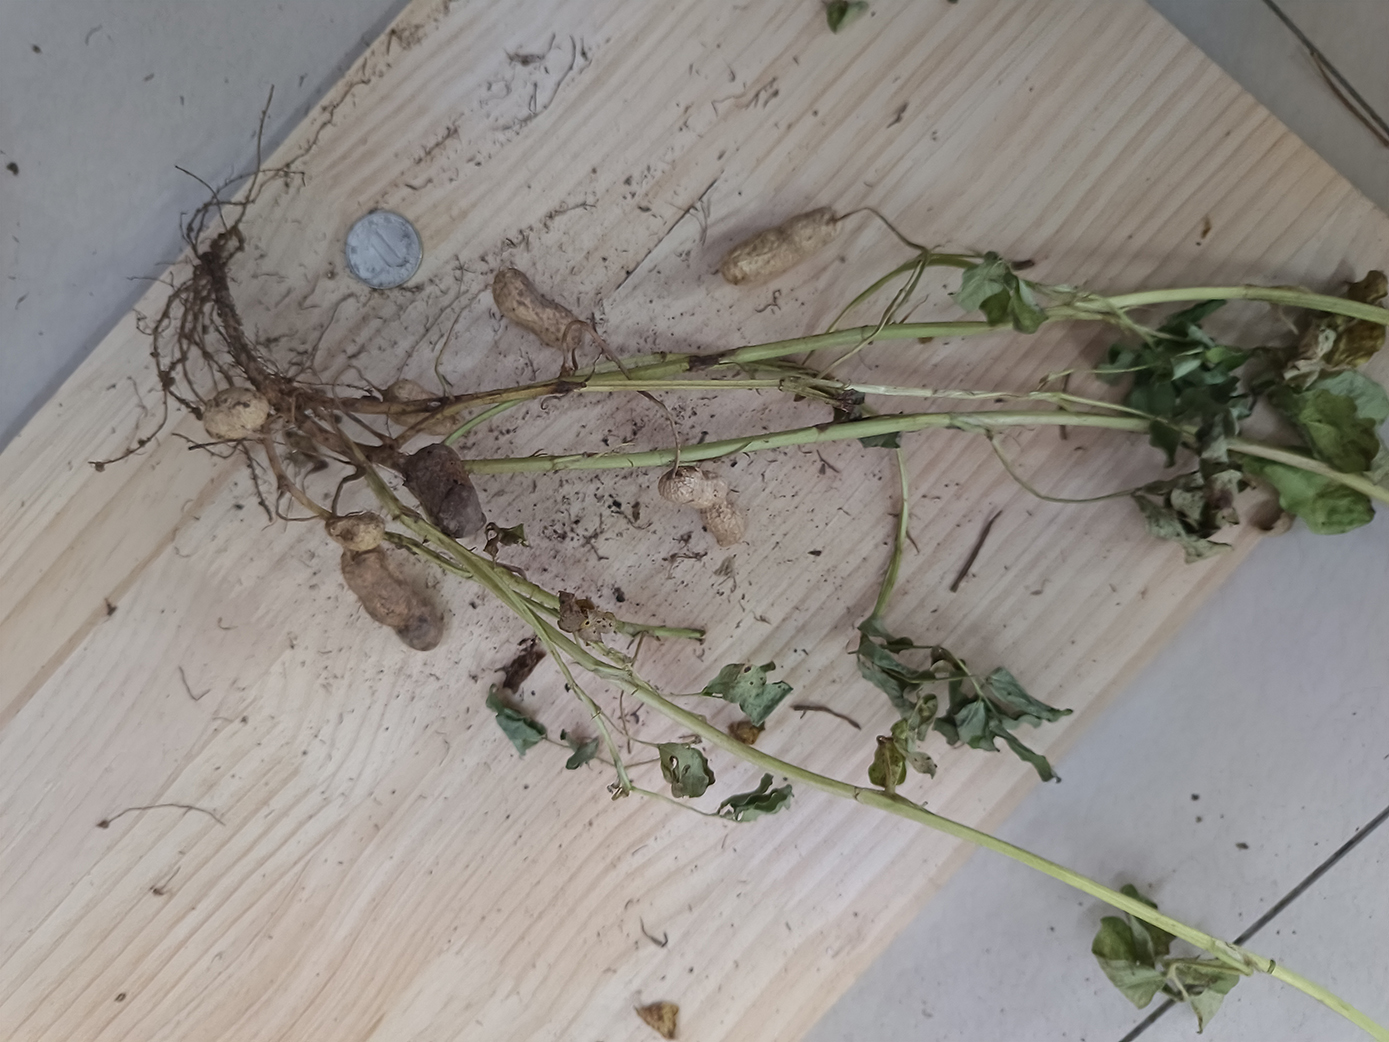h: (719, 206, 842, 286), (491, 265, 587, 351), (657, 464, 746, 549), (204, 386, 268, 441), (324, 510, 385, 551)
l: (339, 549, 448, 653), (404, 444, 487, 539)
